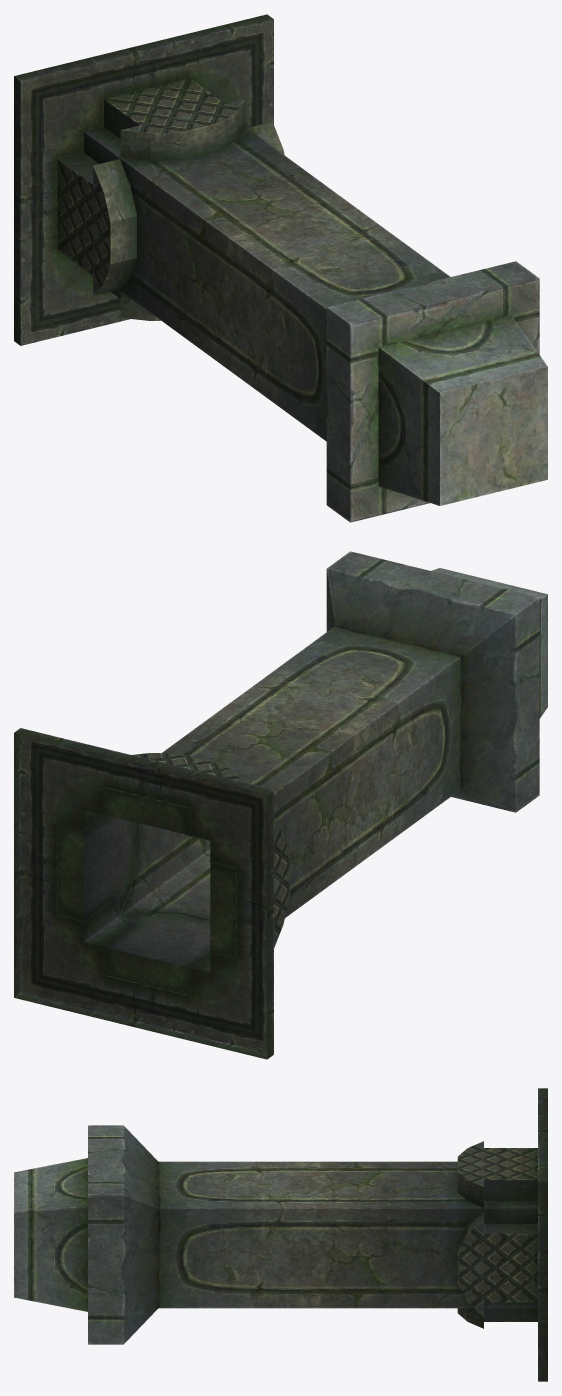
File: dongfang_yewai_357_zhuzi03.obj
The picture shows the model from 3 angles, top to bottom: view 1: azimuth 30°, elevation 25°; view 2: azimuth 150°, elevation 25°; view 3: azimuth 270°, elevation 25°; orthographic projection. The views are drawn at different scales.
Visible parts, largest first — view 1: dongfang_yewai_357_zhuzi03; view 2: dongfang_yewai_357_zhuzi03; view 3: dongfang_yewai_357_zhuzi03.
Boxes of the visible parts, x1,y1,x2,y2 form: dongfang_yewai_357_zhuzi03: (14,14,547,522); dongfang_yewai_357_zhuzi03: (14,551,547,1059); dongfang_yewai_357_zhuzi03: (14,1088,547,1381).
Bounding box in the file's own units: 110 × 110 × 266.
Materials: 1 (1 with a texture image).
